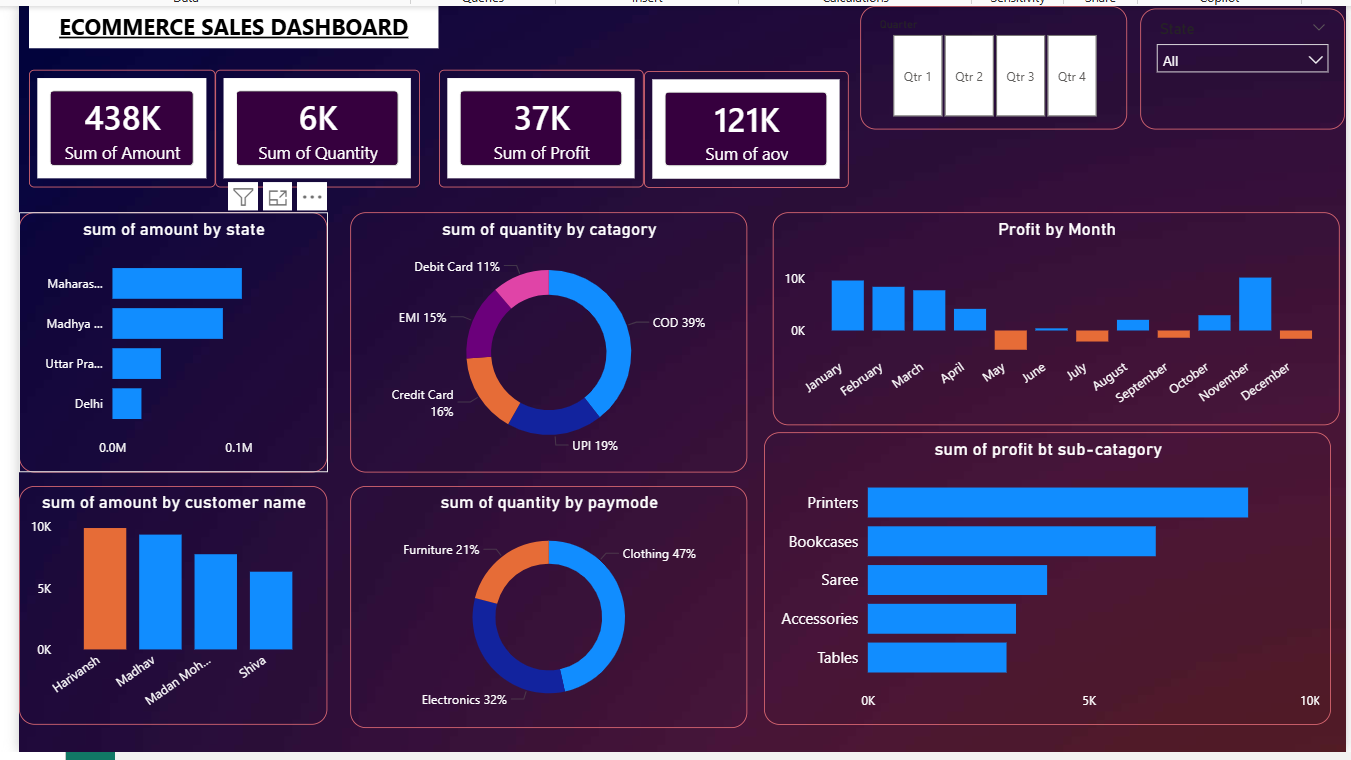

What the dashboard file says about the page in this screenshot:
{"tool":"powerbi","page":{"name":"Page 1","canvas":[1280,720],"ordinal":0},"visuals":[{"type":"textbox","box":[9.6,0,395.2,41.2],"z":0},{"type":"columnChart","title":"Profit by Month","fields":{"Y":["Sum(Details.Profit)"],"Category":["Orders.Order Date.Variation.Date Hierarchy.Month"]},"box":[727.3,199,547.5,205.8],"z":1},{"type":"barChart","title":"sum of profit bt sub-catagory","fields":{"Category":["Details.Sub-Category"],"Y":["Sum(Details.Profit)"]},"box":[719,411.7,547.5,282.7],"z":2},{"type":"donutChart","title":"sum of quantity by paymode","fields":{"Category":["Details.Category"],"Y":["Sum(Details.Quantity)"]},"box":[319.7,463.8,382.8,233.3],"z":3},{"type":"donutChart","title":"sum of quantity by catagory","fields":{"Y":["Sum(Details.Quantity)"],"Category":["Details.PaymentMode"]},"box":[319.7,199,382.8,251.1],"z":4},{"type":"cardVisual","fields":{"Data":["Sum(Details.Amount)"]},"box":[9.6,61.7,179.8,113.9],"z":5},{"type":"cardVisual","fields":{"Data":["Sum(Details.Quantity)"]},"box":[189.4,61.7,197.6,113.9],"z":6},{"type":"cardVisual","fields":{"Data":["Sum(Details.Profit)"]},"box":[404.8,61.7,197.6,113.9],"z":7},{"type":"cardVisual","fields":{"Data":["Sum(Details.aov)"]},"box":[603.8,63.1,197.6,112.5],"z":8},{"type":"barChart","title":"sum of amount by state","fields":{"Category":["Orders.State"],"Y":["Sum(Details.Amount)"]},"box":[0,199,297.8,251.1],"z":9},{"type":"columnChart","title":"sum of amount by customer name","fields":{"Category":["Orders.CustomerName"],"Y":["Sum(Details.Amount)"]},"box":[0,463.8,297.8,230.5],"z":10},{"type":"slicer","fields":{"Values":["Orders.Order Date.Variation.Date Hierarchy.Quarter"]},"box":[812.4,0,258,119.4],"z":11},{"type":"slicer","fields":{"Values":["Orders.State"]},"box":[1082.7,2.7,197.6,116.6],"z":12}]}

Visuals, with their boxes in screenshot pixels (x1, y1, x2, y2):
textbox: <box>24,25,435,68</box>
"Profit by Month" columnChart: <box>771,232,1341,446</box>
"sum of profit bt sub-catagory" barChart: <box>762,453,1332,747</box>
"sum of quantity by paymode" donutChart: <box>347,507,745,750</box>
"sum of quantity by catagory" donutChart: <box>347,232,745,493</box>
cardVisual - Sum(Details.Amount): <box>24,89,211,207</box>
cardVisual - Sum(Details.Quantity): <box>211,89,417,207</box>
cardVisual - Sum(Details.Profit): <box>435,89,641,207</box>
cardVisual - Sum(Details.aov): <box>643,90,848,207</box>
"sum of amount by state" barChart: <box>14,232,324,493</box>
"sum of amount by customer name" columnChart: <box>14,507,324,747</box>
slicer - Orders.Order Date.Variation.Date Hierarchy.Quarter: <box>860,25,1128,149</box>
slicer - Orders.State: <box>1141,27,1347,149</box>
